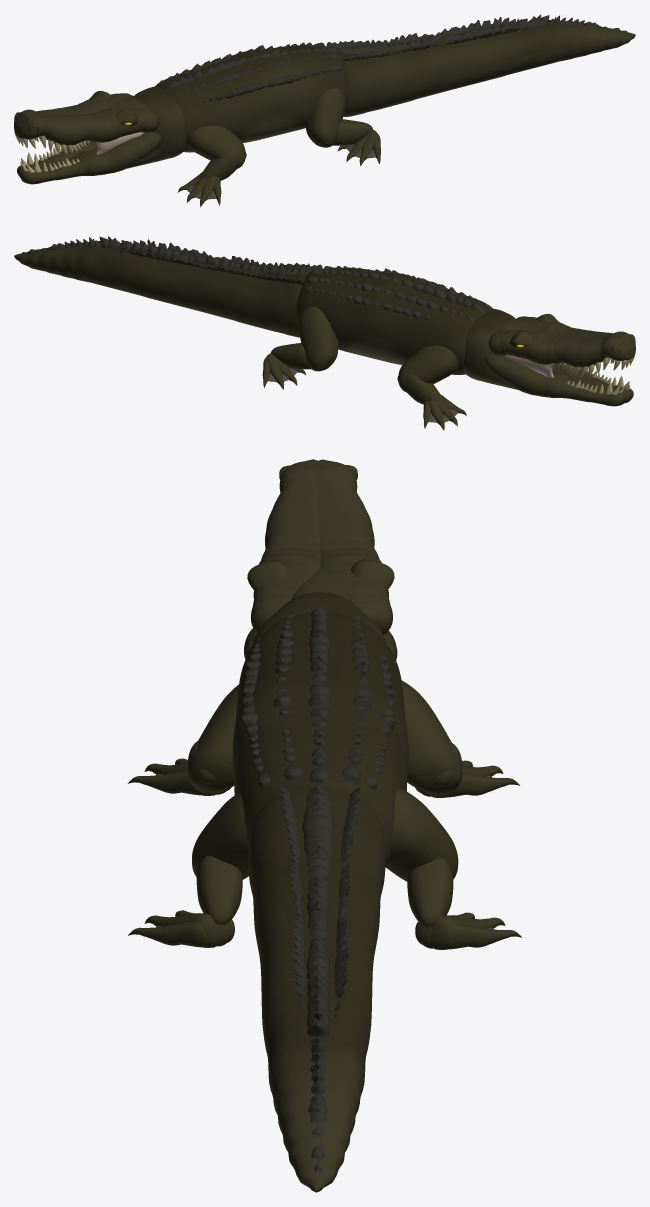
The model's file is deino.glb.
The picture shows the model from 3 angles, top to bottom: view 1: azimuth 30°, elevation 25°; view 2: azimuth 150°, elevation 25°; view 3: azimuth 270°, elevation 25°; orthographic projection. The views are drawn at different scales.
Parts seen in each view (by area): view 1: node_id491_136, node_id487_173, node_id826_207, node_id884_225, node_id920_169, node_id490_132, node_id896_147, node_id900_140, node_id858_197, node_id486_175, node_id616_134, node_id594_168 (+10 smaller); view 2: node_id491_136, node_id487_173, node_id858_197, node_id883_242, node_id920_169, node_id490_132, node_id898_170, node_id902_135, node_id826_207, node_id486_175, node_id630_184, node_id616_134 (+9 smaller); view 3: node_id491_136, node_id487_173, node_id490_132, node_id858_197, node_id826_207, node_id902_135, node_id898_170, node_id900_140, node_id896_147, node_id486_175, node_id899_180, node_id897_144 (+10 smaller).
Boxes of the visible parts, box(x1,y1,x2,y2) form: node_id491_136: box(337, 20, 635, 116); node_id487_173: box(155, 45, 349, 152); node_id826_207: box(17, 107, 159, 145); node_id884_225: box(19, 132, 160, 184); node_id920_169: box(127, 86, 185, 168); node_id490_132: box(338, 14, 627, 54); node_id896_147: box(305, 88, 345, 147); node_id900_140: box(187, 126, 245, 168); node_id858_197: box(14, 93, 132, 135); node_id486_175: box(163, 46, 337, 90); node_id616_134: box(326, 17, 519, 48); node_id594_168: box(194, 65, 341, 104); node_id491_136: box(14, 241, 311, 337); node_id487_173: box(296, 267, 492, 374); node_id858_197: box(488, 330, 631, 367); node_id883_242: box(485, 354, 625, 406); node_id920_169: box(463, 308, 517, 389); node_id490_132: box(22, 236, 310, 276); node_id898_170: box(298, 306, 338, 371); node_id902_135: box(398, 345, 458, 391); node_id826_207: box(516, 316, 635, 358); node_id486_175: box(311, 268, 485, 312); node_id630_184: box(130, 239, 322, 269); node_id616_134: box(115, 249, 303, 284); node_id491_136: box(248, 790, 385, 1192); node_id487_173: box(232, 612, 408, 866); node_id490_132: box(302, 784, 334, 1173); node_id858_197: box(315, 459, 392, 635); node_id826_207: box(250, 459, 320, 632); node_id902_135: box(401, 680, 462, 793); node_id898_170: box(385, 789, 458, 881); node_id900_140: box(187, 684, 238, 791); node_id896_147: box(192, 793, 248, 879); node_id486_175: box(308, 607, 330, 783); node_id899_180: box(407, 858, 453, 926); node_id897_144: box(196, 855, 242, 924).
Size of the model in its own units: 2.18 by 0.3275 by 0.6022.
Materials: 32 (32 with a texture image).
